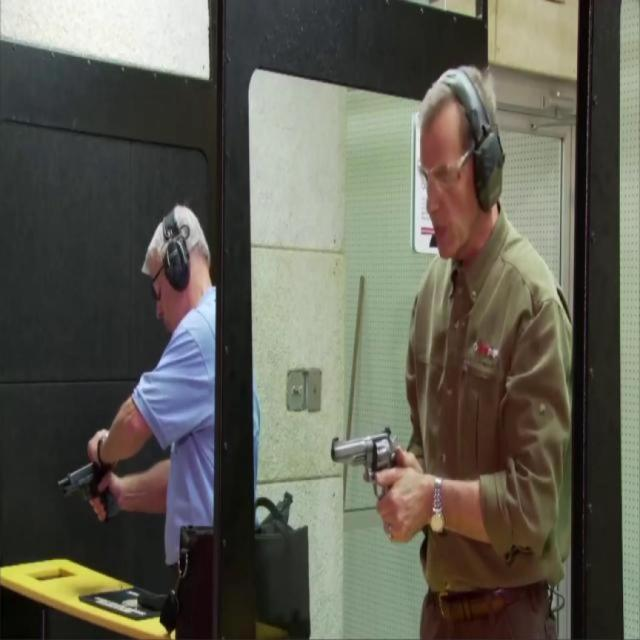pistol: (331, 426, 398, 504), (58, 456, 124, 524)
